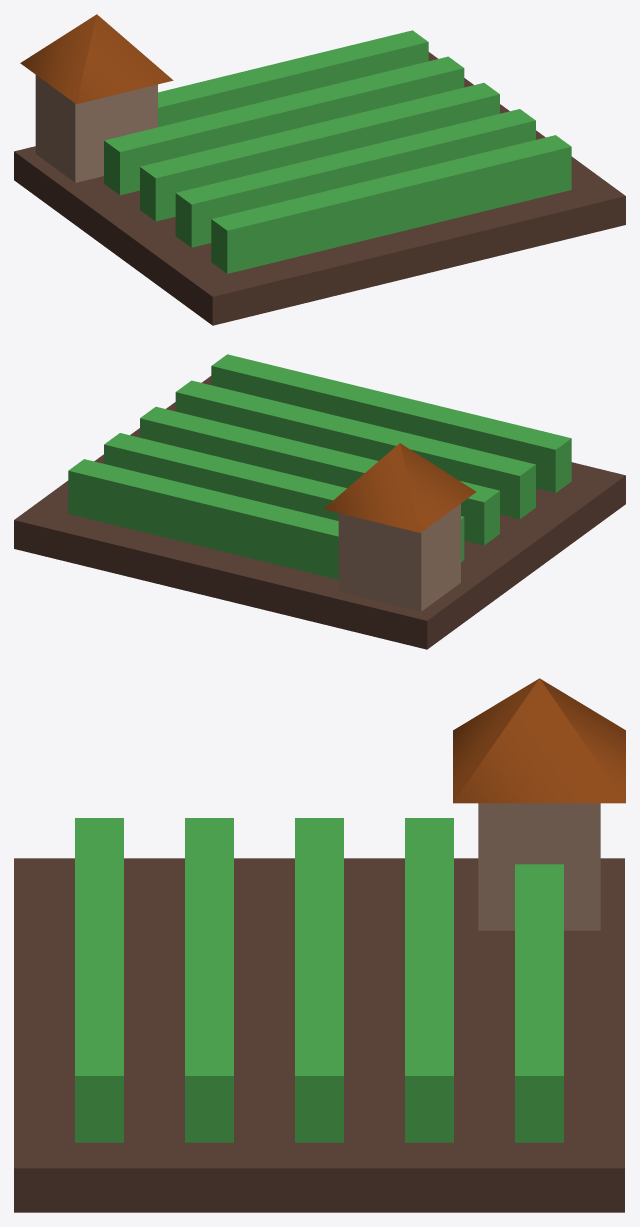
File: farm.glb
3 renders of one model, top to bottom at view 1: azimuth 30°, elevation 25°; view 2: azimuth 150°, elevation 25°; view 3: azimuth 270°, elevation 25°, orthographic. The views are drawn at different scales.
Parts seen in each view (by area): view 1: node_0, node_5, node_4, node_2, node_3, node_1, node_6, node_7; view 2: node_0, node_1, node_5, node_4, node_3, node_6, node_2, node_7; view 3: node_0, node_7, node_2, node_3, node_4, node_5, node_1, node_6.
Boxes of the visible parts, x1,y1,x2,y2 form: node_0: [14, 52, 625, 325]; node_5: [211, 135, 571, 273]; node_4: [175, 109, 535, 247]; node_2: [104, 56, 464, 195]; node_3: [140, 83, 499, 221]; node_1: [158, 30, 428, 127]; node_6: [35, 75, 157, 182]; node_7: [20, 14, 173, 104]; node_0: [14, 376, 625, 649]; node_1: [68, 459, 338, 579]; node_5: [211, 354, 571, 492]; node_4: [175, 380, 535, 519]; node_3: [140, 406, 499, 545]; node_6: [338, 503, 460, 611]; node_2: [104, 433, 464, 562]; node_7: [323, 443, 476, 532]; node_0: [14, 858, 624, 1212]; node_7: [453, 678, 625, 803]; node_2: [405, 818, 453, 1142]; node_3: [295, 818, 343, 1142]; node_4: [185, 818, 233, 1142]; node_5: [75, 818, 123, 1142]; node_1: [515, 864, 563, 1142]; node_6: [478, 803, 600, 930].
Bounding box in the file's own units: 0.6 × 0.24 × 0.5007.
